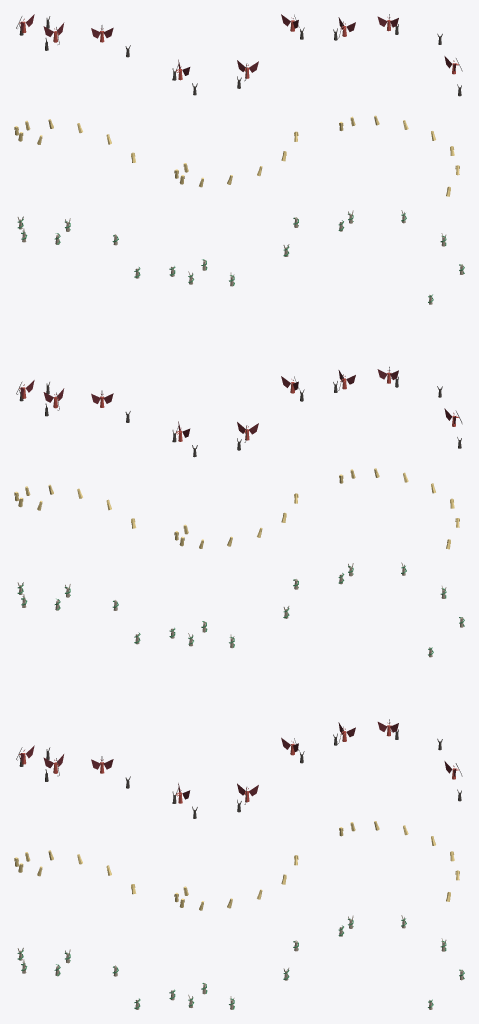
The model's file is Circle8Folk2.obj.
3 views of the same model, side by side, from view 1: azimuth 30°, elevation 25°; view 2: azimuth 150°, elevation 25°; view 3: azimuth 330°, elevation 25° (orthographic). The views are drawn at different scales.
Parts seen in each view (by area): view 1: Circle8Folk2; view 2: Circle8Folk2; view 3: Circle8Folk2.
Boxes of the visible parts, x1,y1,x2,y2 form: Circle8Folk2: [14, 14, 140, 1009]; Circle8Folk2: [169, 14, 304, 1009]; Circle8Folk2: [333, 14, 464, 1009].
Size of the model in its own units: 26.01 by 220 by 23.49.
Materials: 1 (1 with a texture image).
